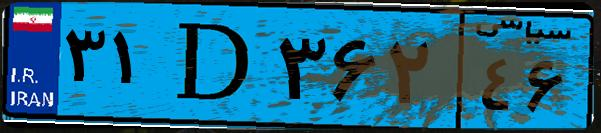1: (110, 28, 158, 98)
2: (385, 28, 445, 110)
3: (270, 28, 330, 110), (57, 26, 110, 100)
4: (475, 38, 525, 113)
6: (330, 28, 385, 110), (525, 38, 570, 115)
D: (158, 12, 270, 120)
